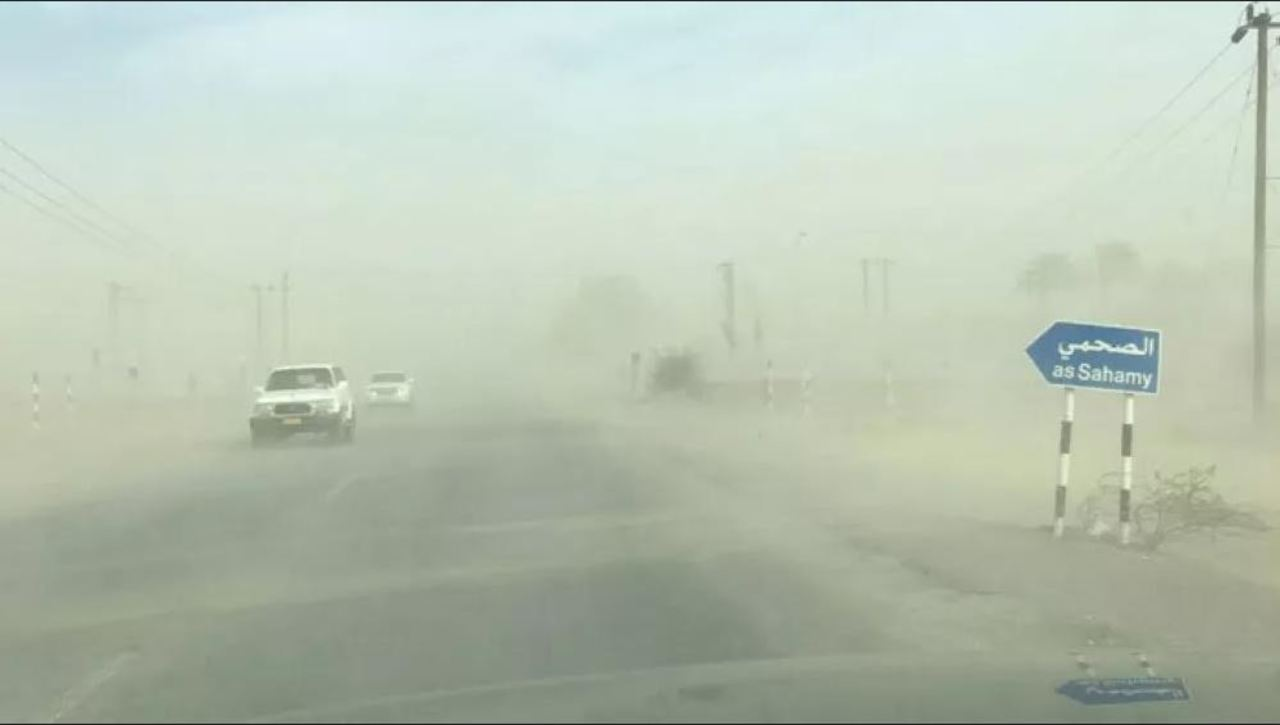car: (247, 363, 355, 445), (364, 371, 414, 405)
